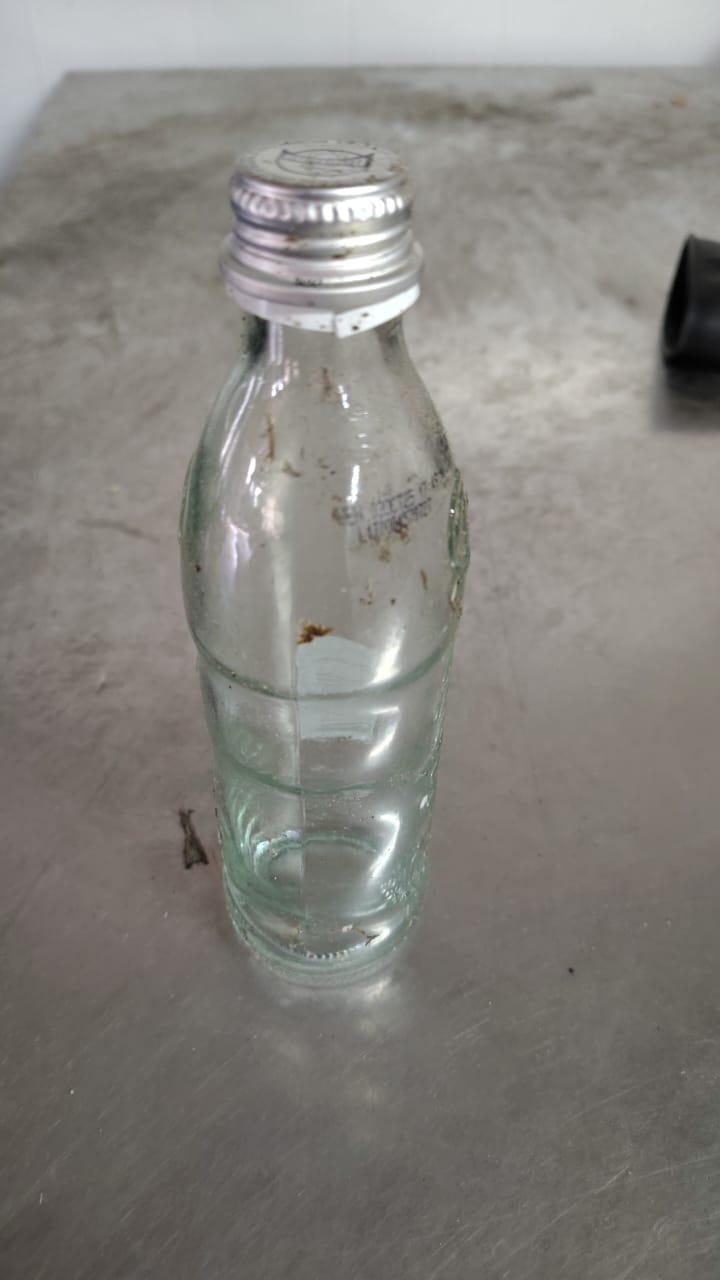Metal: (227, 141, 427, 318)
Vidrio: (175, 325, 473, 978)
